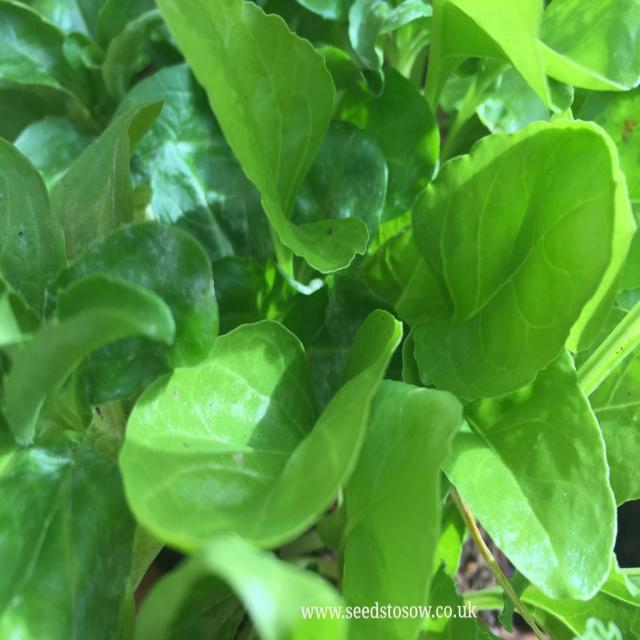spinach: (408, 120, 624, 391), (123, 370, 361, 551), (461, 403, 618, 604), (197, 0, 331, 193), (54, 150, 142, 228)
